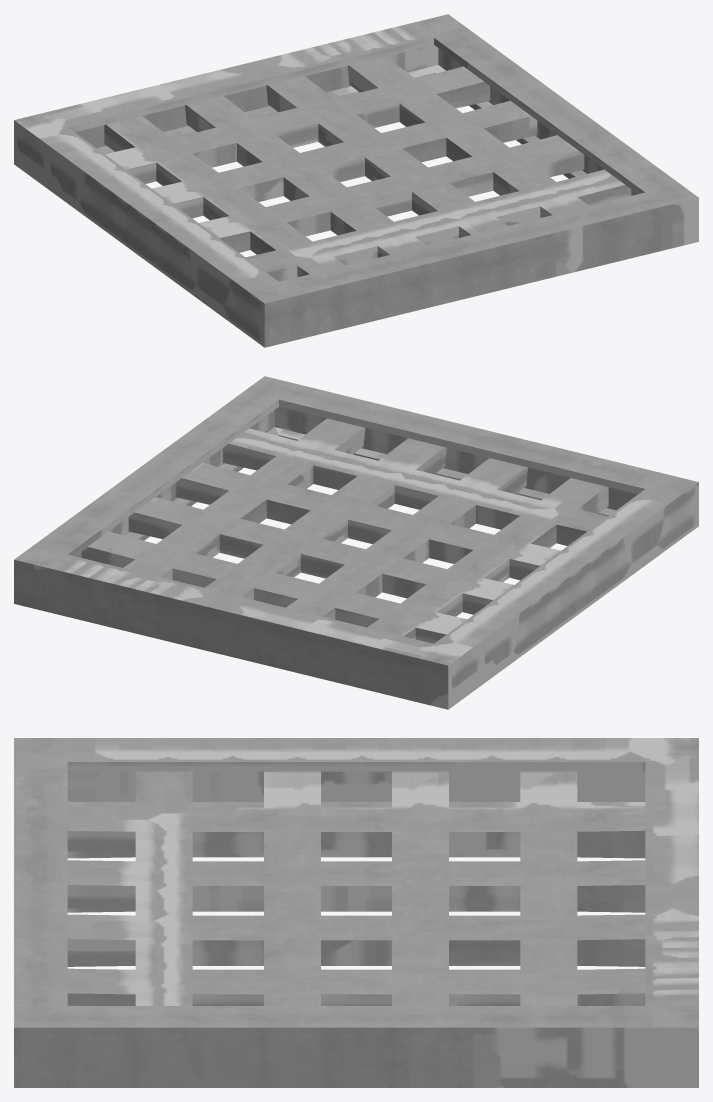
The model's file is Pfb_Network.fbx.
3 renders of one model, top to bottom at view 1: azimuth 30°, elevation 25°; view 2: azimuth 150°, elevation 25°; view 3: azimuth 270°, elevation 25°, orthographic. The views are drawn at different scales.
Parts seen in each view (by area): view 1: Mat_Network_01_1; view 2: Mat_Network_01_1; view 3: Mat_Network_01_1.
Part boxes in pixels (<box>): Mat_Network_01_1: <box>14,14,698,347</box>; Mat_Network_01_1: <box>14,376,698,709</box>; Mat_Network_01_1: <box>14,738,698,1087</box>.
Bounding box in the file's own units: 2.14 × 0.2082 × 2.14.
Materials: 1 (1 with a texture image).
